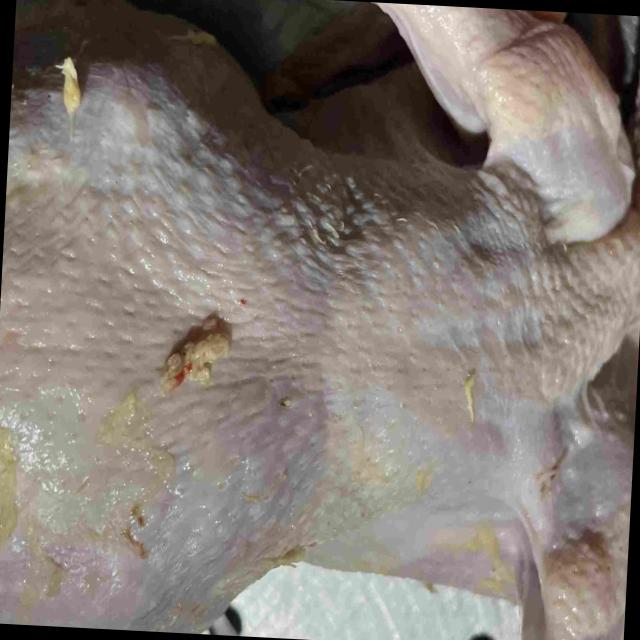back: (0, 101, 520, 585)
leg: (10, 0, 242, 122)
neck: (539, 176, 640, 414)
wing: (368, 2, 628, 246), (521, 413, 635, 640)
